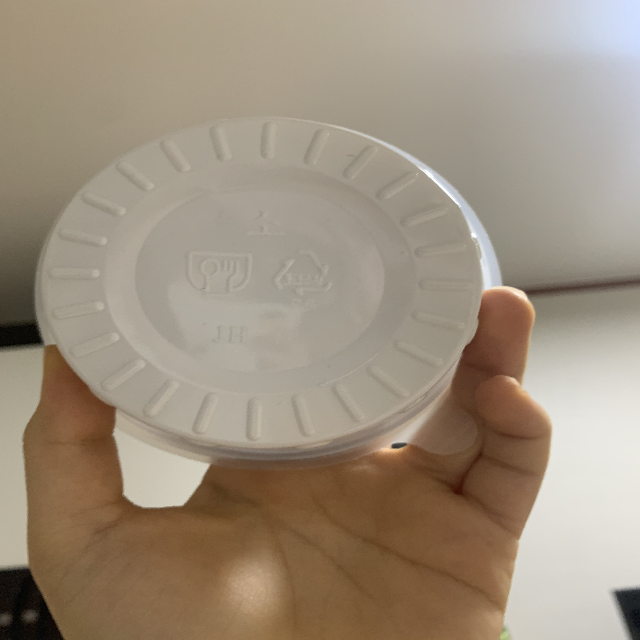ps: (267, 249, 332, 314)
